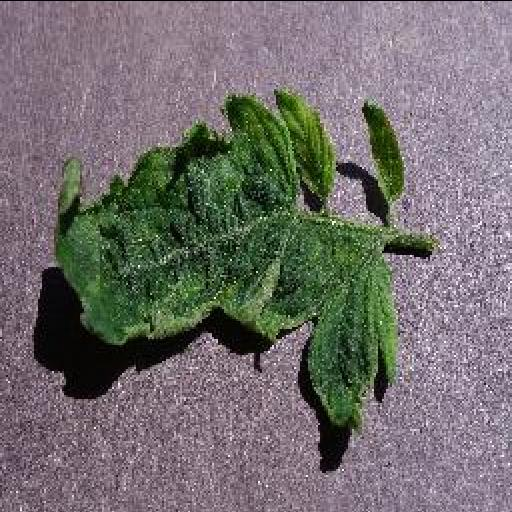Mosaic Virus: (50, 84, 404, 442)
